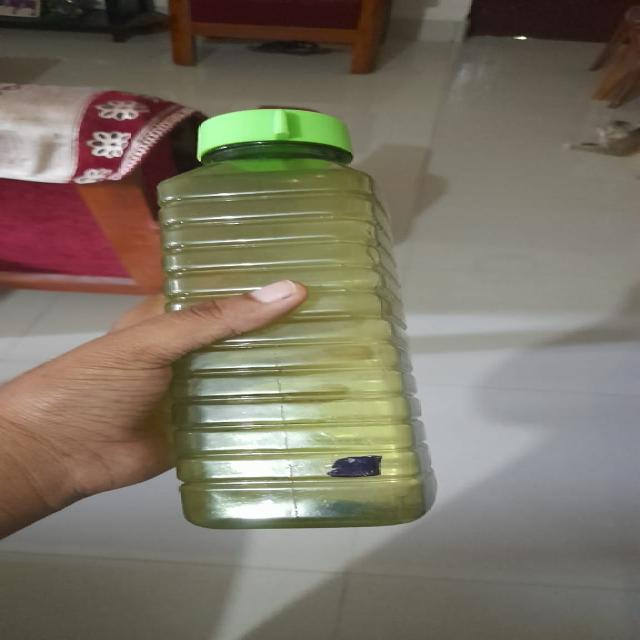Plastic - Recyclable: (153, 107, 434, 530)
